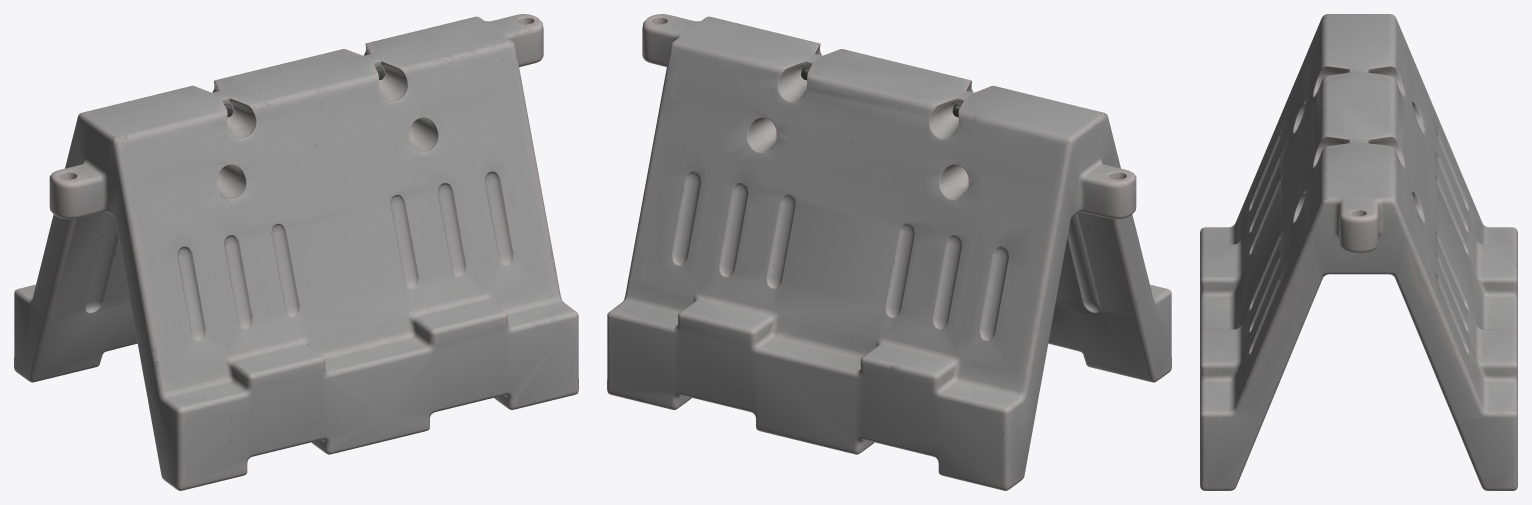
Rendered from AM218_055_Barrier_003нов.fbx.
3 views of the same model, side by side, from view 1: azimuth 30°, elevation 25°; view 2: azimuth 150°, elevation 25°; view 3: azimuth 270°, elevation 25° (orthographic). The views are drawn at different scales.
Parts seen in each view (by area): view 1: AM218_055_Barrier_003_LOD0; view 2: AM218_055_Barrier_003_LOD0; view 3: AM218_055_Barrier_003_LOD0.
Part boxes in pixels (bbox=[...]): AM218_055_Barrier_003_LOD0: bbox=[14, 14, 578, 490]; AM218_055_Barrier_003_LOD0: bbox=[607, 14, 1171, 490]; AM218_055_Barrier_003_LOD0: bbox=[1200, 14, 1517, 490].
Size of what is drawn, in the model's own units: 1539 by 927 by 912.
